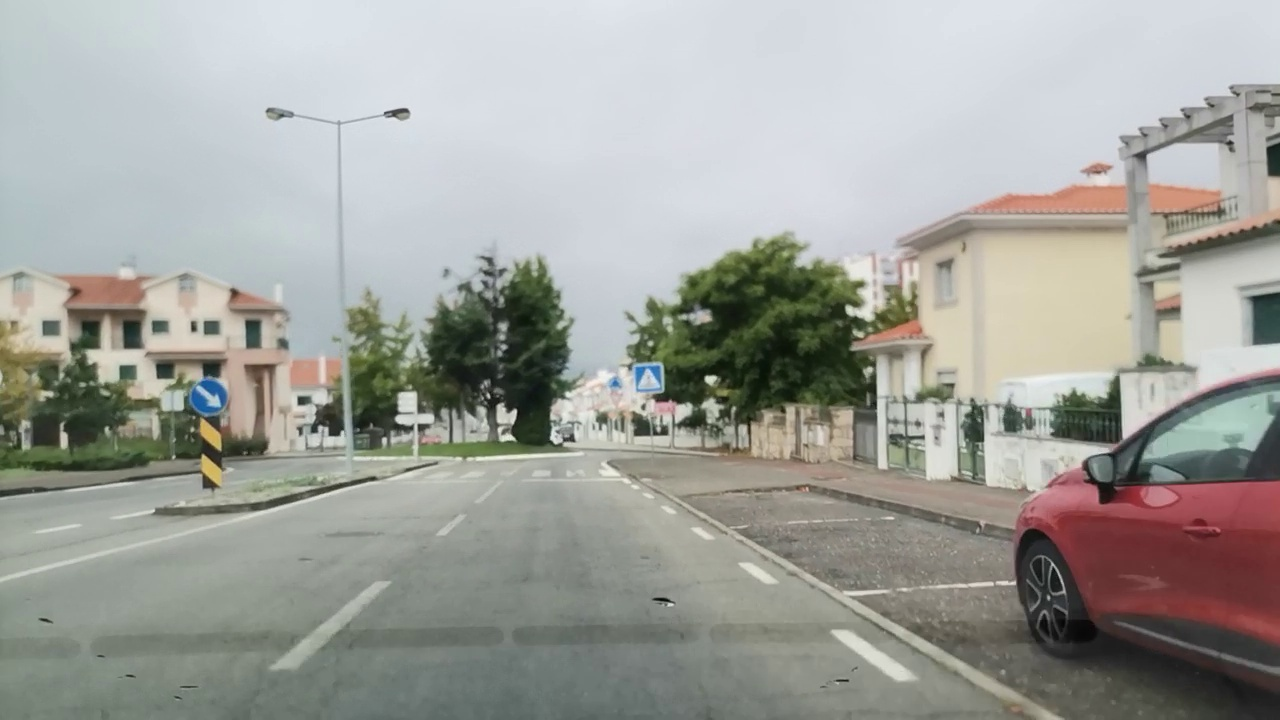Stairs: (408, 467, 619, 478)
